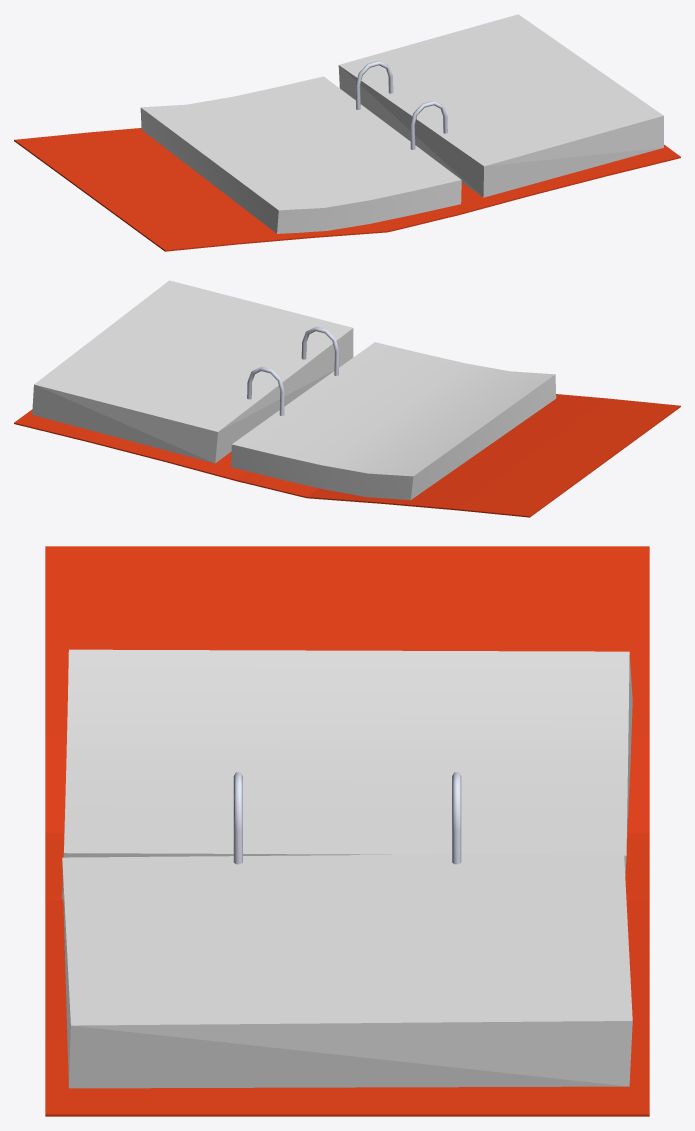
The model's file is folder_open.dae.
3 renders of one model, top to bottom at view 1: azimuth 30°, elevation 25°; view 2: azimuth 150°, elevation 25°; view 3: azimuth 270°, elevation 25°, orthographic. The views are drawn at different scales.
Visible parts, largest first — view 1: Folder_Open_PapersA, Folder_Open_PapersB, Folder1_Open, Folder_Clamps.001; view 2: Folder_Open_PapersA, Folder_Open_PapersB, Folder1_Open, Folder_Clamps.001; view 3: Folder_Open_PapersA, Folder_Open_PapersB, Folder1_Open, Folder_Clamps.001.
Boxes of the visible parts, x1,y1,x2,y2 form: Folder_Open_PapersA: (338, 14, 663, 197); Folder_Open_PapersB: (140, 76, 461, 233); Folder1_Open: (14, 128, 680, 251); Folder_Clamps.001: (355, 61, 447, 149); Folder_Open_PapersA: (32, 280, 353, 463); Folder_Open_PapersB: (231, 342, 556, 500); Folder1_Open: (14, 394, 680, 517); Folder_Clamps.001: (247, 326, 339, 415); Folder_Open_PapersA: (62, 853, 632, 1088); Folder_Open_PapersB: (62, 649, 632, 899); Folder1_Open: (45, 546, 649, 1116); Folder_Clamps.001: (233, 772, 461, 864).
Bounding box in the file's own units: 0.631 × 0.32 × 0.0854.
